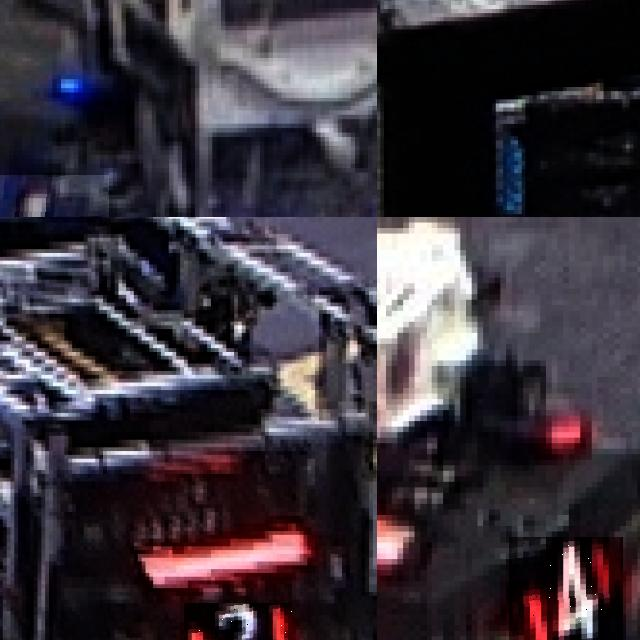B1: (0, 174, 108, 217)
R2: (184, 603, 292, 640)
R4: (508, 537, 623, 640)
